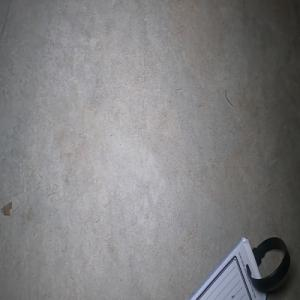LuggageTag: (187, 235, 291, 300)
